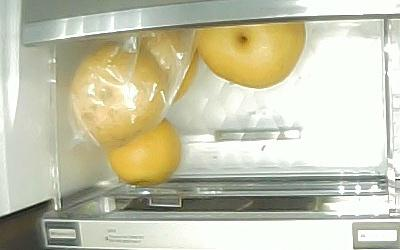pear: (196, 22, 305, 88), (105, 118, 179, 185)
pear_vinyl: (71, 44, 168, 144), (120, 27, 199, 106)
